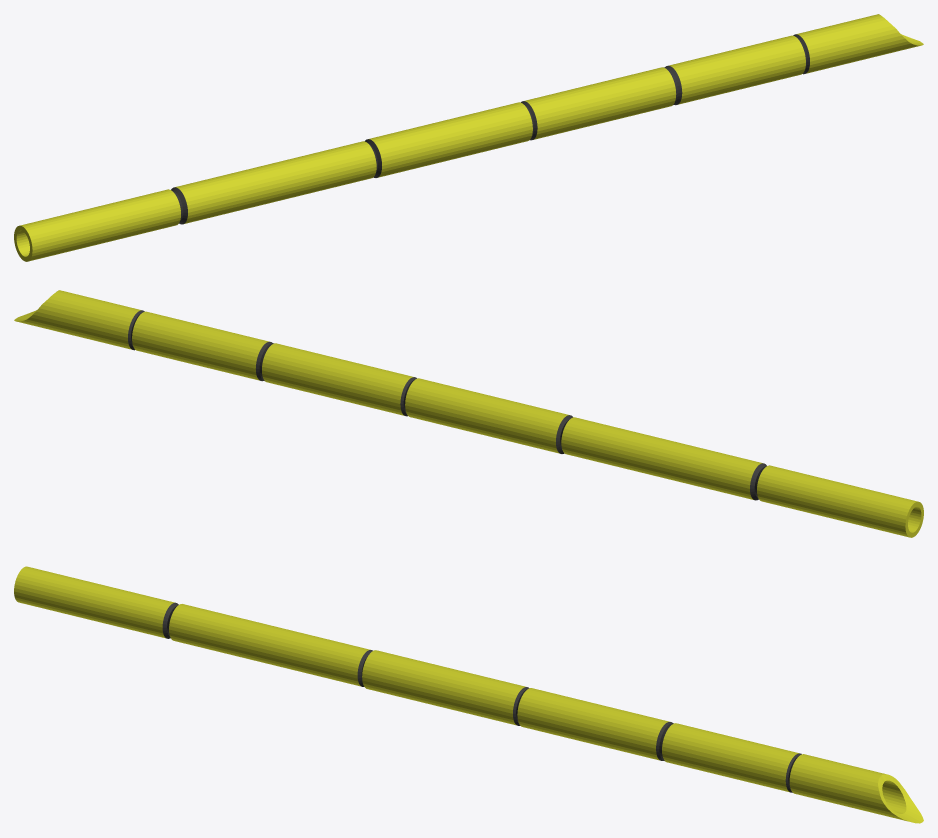
Rendered from bamboo.fbx.
3 renders of one model, top to bottom at view 1: azimuth 30°, elevation 25°; view 2: azimuth 150°, elevation 25°; view 3: azimuth 330°, elevation 25°, orthographic.
Parts seen in each view (by area): view 1: Cube; view 2: Cube; view 3: Cube.
Part boxes in pixels (left/top/right/bottom): Cube: left=14, top=14, right=923, bottom=261; Cube: left=14, top=290, right=923, bottom=537; Cube: left=14, top=566, right=923, bottom=823.
Size of the model in its own units: 1244 by 49.1 by 49.1.
